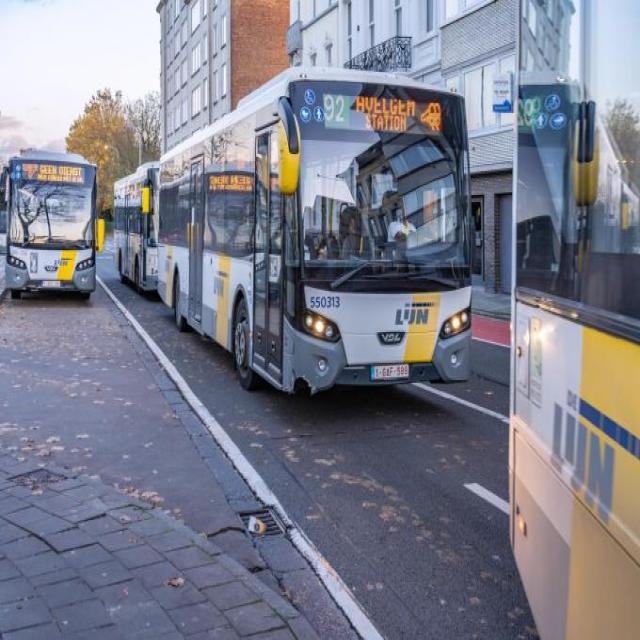bus-number: (323, 92, 346, 126)
